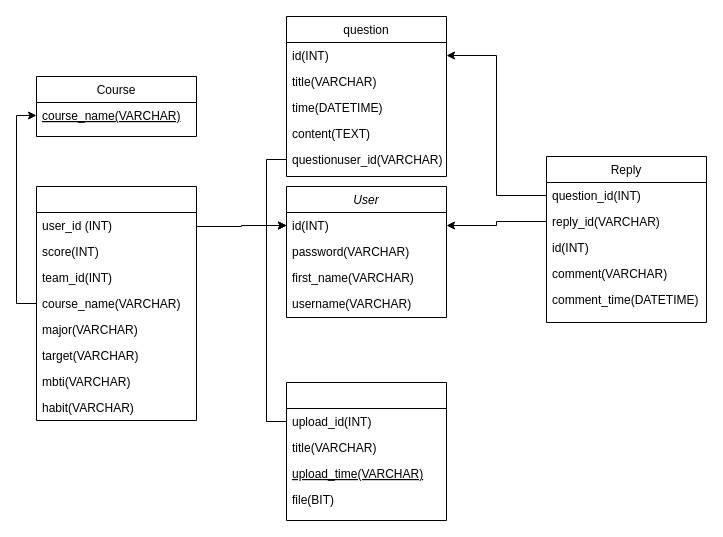
Image size: 723x537. Some labels were removed from this diagram. Each missing label, with the box of its shape:
UploadFile: (286, 382, 446, 520)
User_info: (36, 186, 196, 420)
